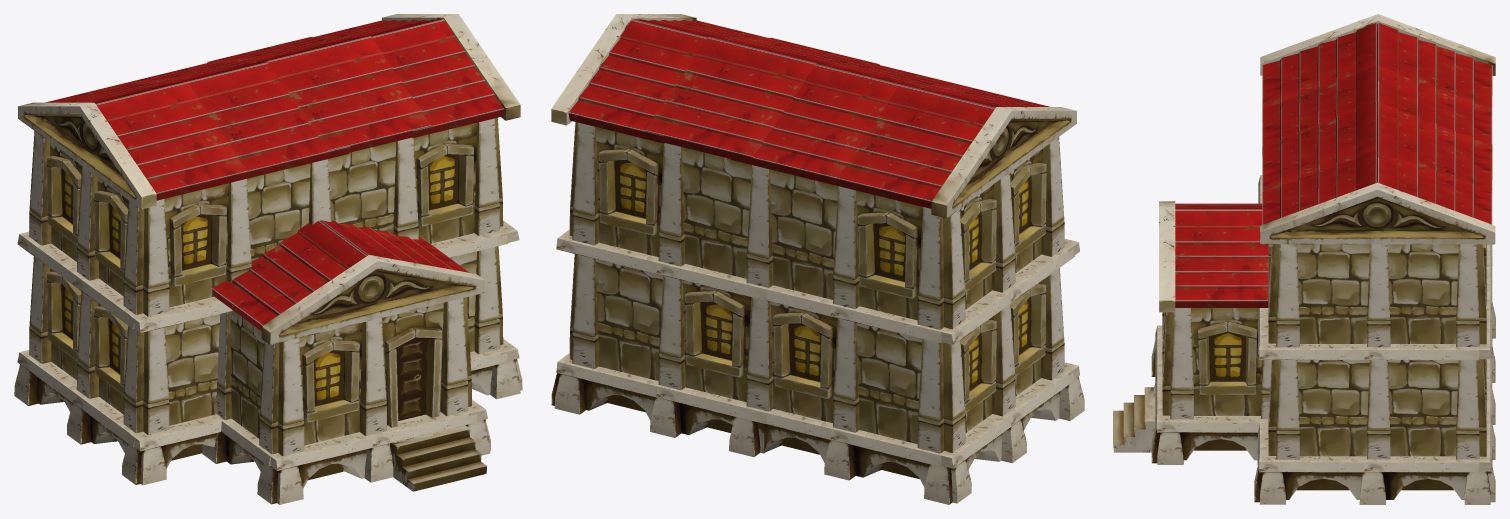
Rendered from Rome_Village_Buildings_03.FBX.
3 views of the same model, side by side, from view 1: azimuth 30°, elevation 25°; view 2: azimuth 150°, elevation 25°; view 3: azimuth 270°, elevation 25° (orthographic). The views are drawn at different scales.
Parts seen in each view (by area): view 1: Rome_Village_Buildings_03; view 2: Rome_Village_Buildings_03; view 3: Rome_Village_Buildings_03.
Boxes of the visible parts, x1,y1,x2,y2 form: Rome_Village_Buildings_03: (14, 14, 522, 504); Rome_Village_Buildings_03: (551, 14, 1084, 504); Rome_Village_Buildings_03: (1113, 14, 1495, 504).
Bounding box in the file's own units: 1030 × 841 × 928.
